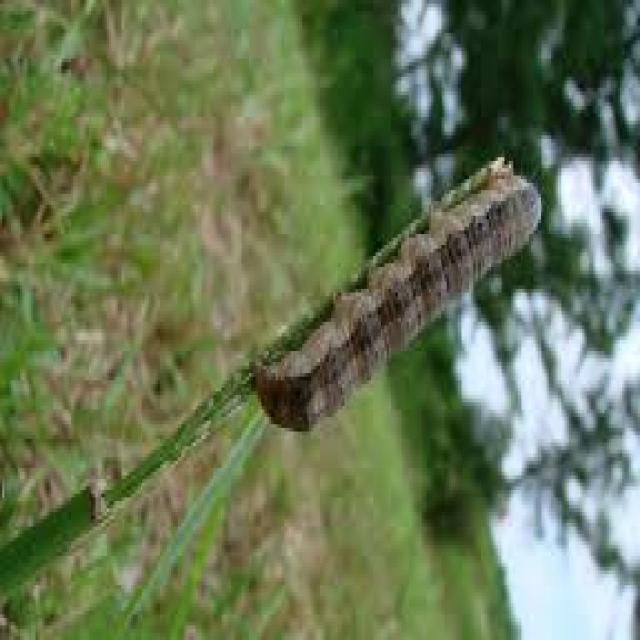armyworm: (254, 172, 547, 442)
